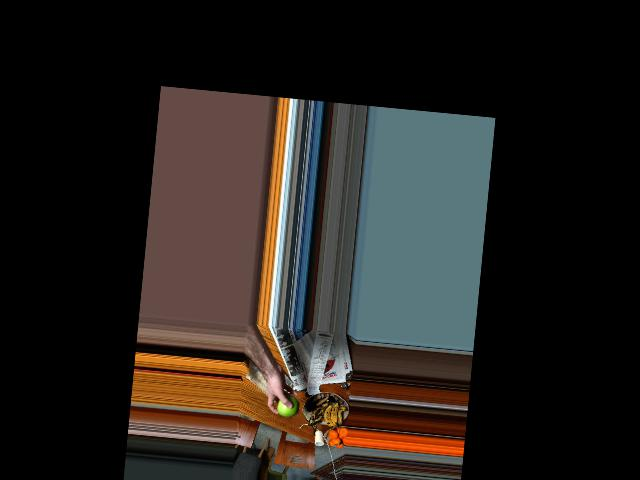apple: (276, 392, 300, 417)
